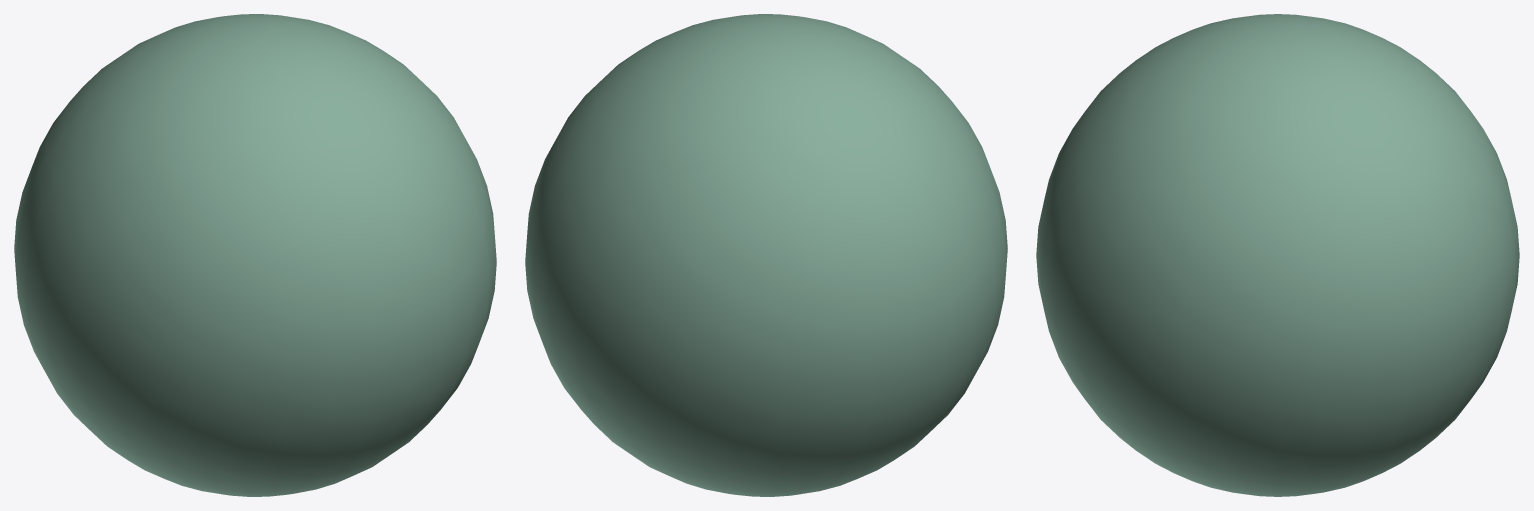
3 views of the same model, side by side, from view 1: azimuth 30°, elevation 25°; view 2: azimuth 150°, elevation 25°; view 3: azimuth 270°, elevation 25° (orthographic).
Parts seen in each view (by area): view 1: Node; view 2: Node; view 3: Node.
Part boxes in pixels (x1,y1,x2,y2): Node: [14, 14, 496, 496]; Node: [525, 14, 1007, 496]; Node: [1036, 14, 1519, 496].
Size of the model in its own units: 0.64 by 0.64 by 0.64.
